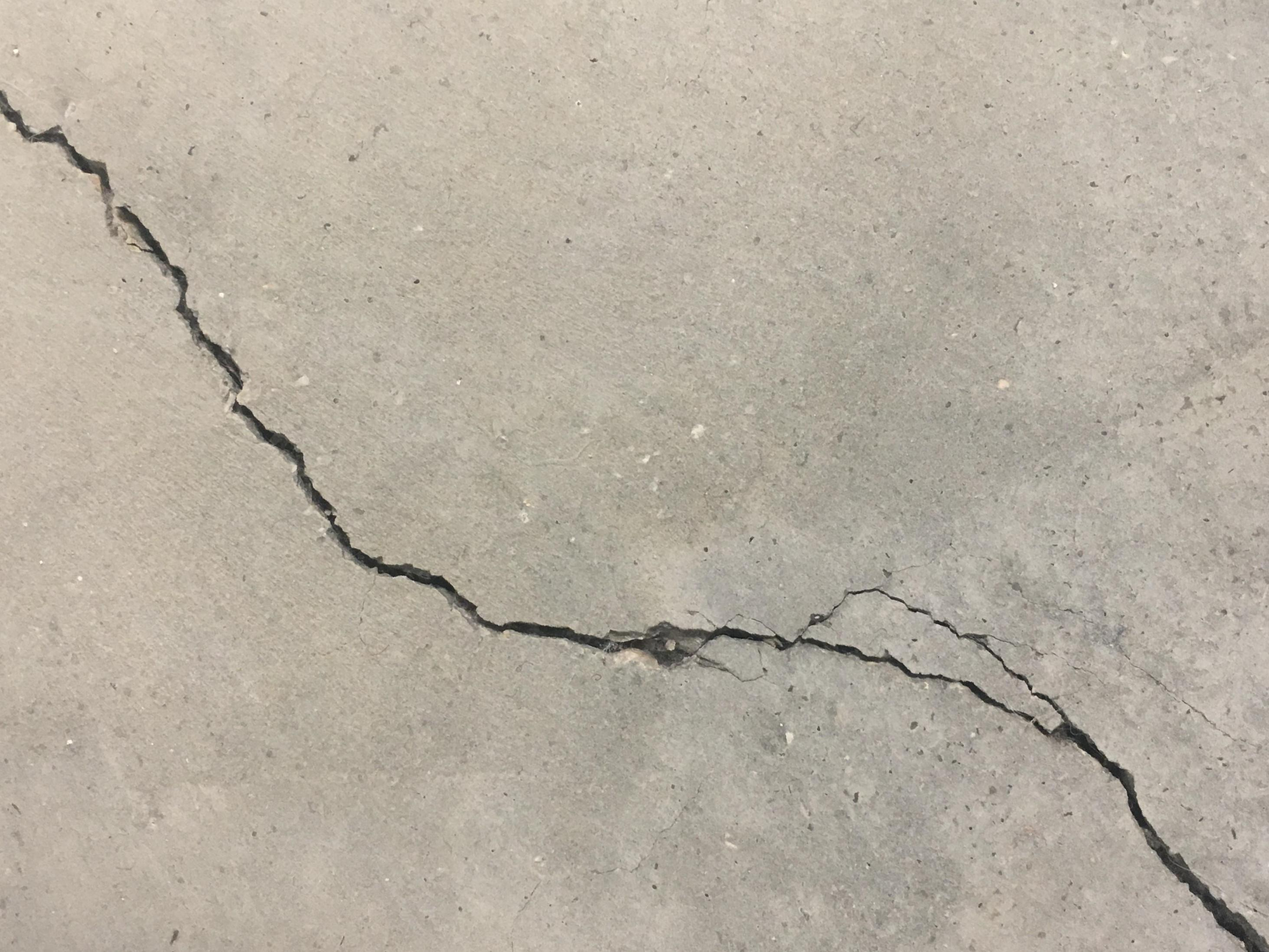Diagonal Crack: (3, 86, 1263, 947)
